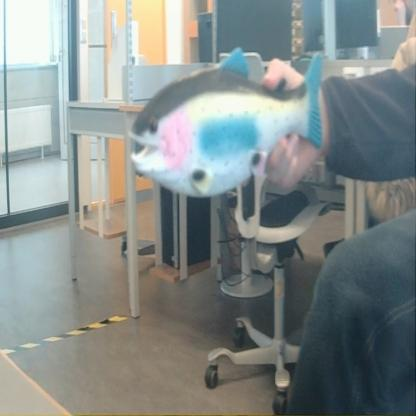rubberfish: (126, 44, 328, 202)
